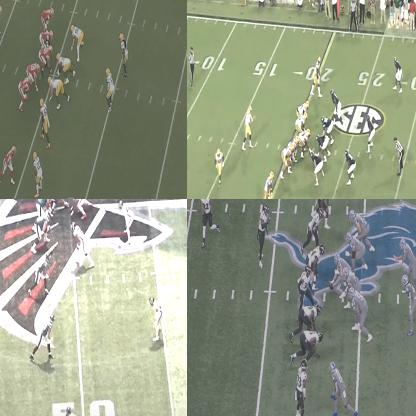CENTER: (328, 249, 345, 289), (297, 129, 311, 159), (39, 44, 53, 71), (54, 199, 71, 206)
DB: (199, 199, 220, 248), (297, 359, 310, 415), (150, 296, 164, 342), (32, 152, 42, 198), (300, 266, 310, 303), (394, 58, 403, 94)
LB: (307, 244, 325, 288), (258, 201, 270, 265), (118, 200, 134, 243), (403, 278, 415, 334), (307, 210, 323, 246), (344, 150, 356, 184), (39, 99, 48, 143), (106, 66, 115, 109), (121, 32, 129, 78), (366, 116, 375, 154)
QB: (393, 235, 415, 279), (243, 106, 253, 149)
SKILL: (69, 221, 98, 270), (329, 360, 350, 415), (31, 314, 55, 362), (28, 250, 50, 296), (0, 144, 16, 181), (330, 90, 345, 124), (311, 55, 322, 97), (259, 171, 274, 198), (214, 150, 224, 186), (48, 404, 76, 415), (42, 8, 53, 27), (0, 4, 2, 30)
